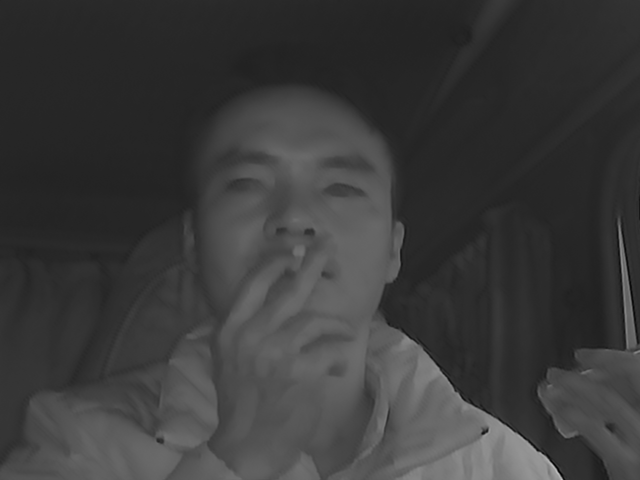hand: (225, 246, 350, 398)
